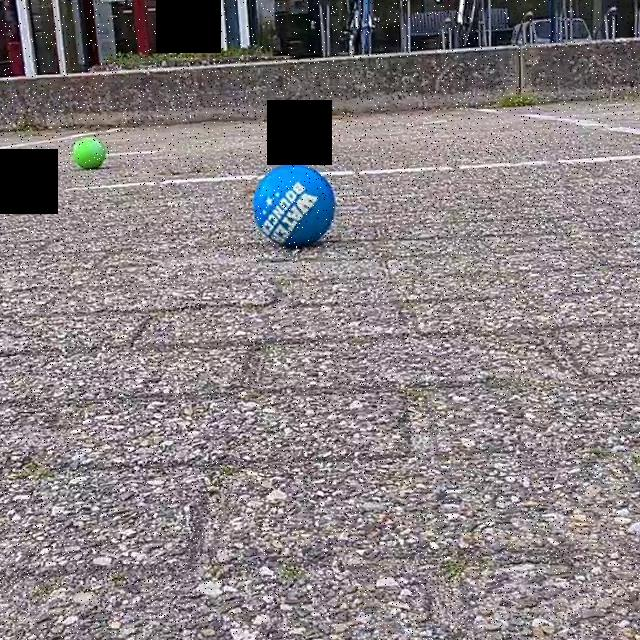ball: (69, 133, 108, 172), (305, 109, 328, 133)
